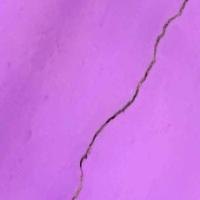crack: (69, 1, 191, 199)
